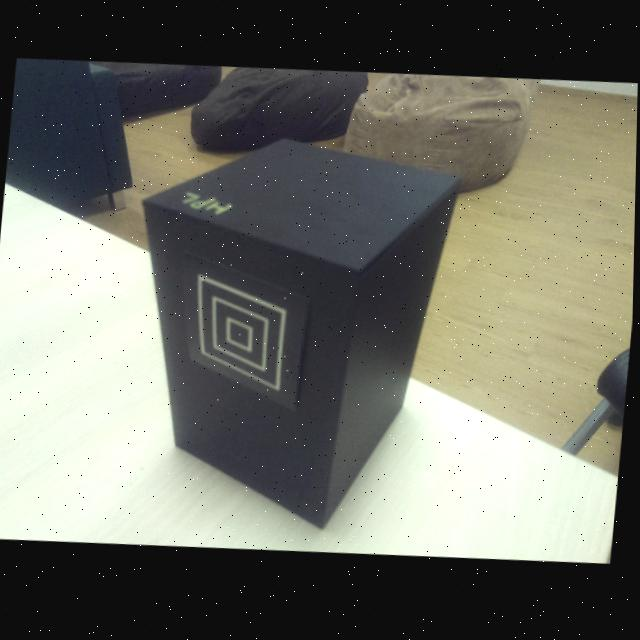BULLSEYE: (184, 257, 308, 411)
